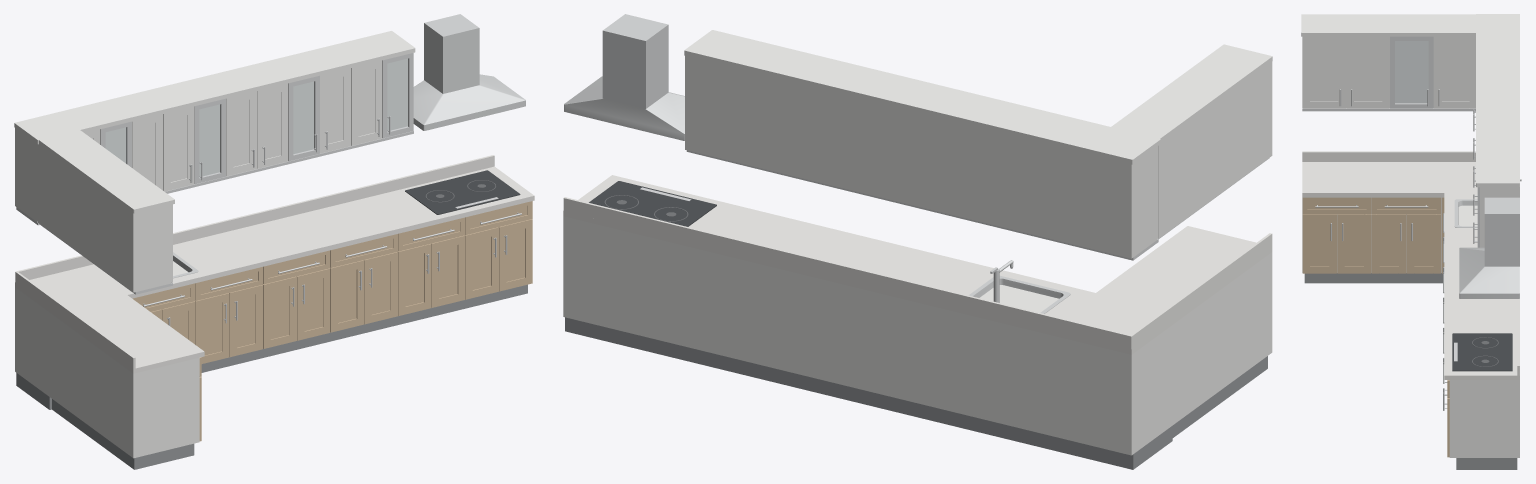
3 views of the same model, side by side, from view 1: azimuth 30°, elevation 25°; view 2: azimuth 150°, elevation 25°; view 3: azimuth 270°, elevation 25° (orthographic). The views are drawn at different scales.
Parts seen in each view (by area): view 1: Tủ bếp chữ L Dài cạnh chính=4200; Dài cạnh phụ=1800; Sâu tủ ; view 2: Tủ bếp chữ L Dài cạnh chính=4200; Dài cạnh phụ=1800; Sâu tủ ; view 3: Tủ bếp chữ L Dài cạnh chính=4200; Dài cạnh phụ=1800; Sâu tủ .
Part boxes in pixels (x1,y1,x2,y2): Tủ bếp chữ L Dài cạnh chính=4200; Dài cạnh phụ=1800; Sâu tủ : (14,14,534,469); Tủ bếp chữ L Dài cạnh chính=4200; Dài cạnh phụ=1800; Sâu tủ : (563,14,1272,469); Tủ bếp chữ L Dài cạnh chính=4200; Dài cạnh phụ=1800; Sâu tủ : (1301,14,1521,469).
Size of the model in its own units: 4.21 by 2.2 by 1.82.
